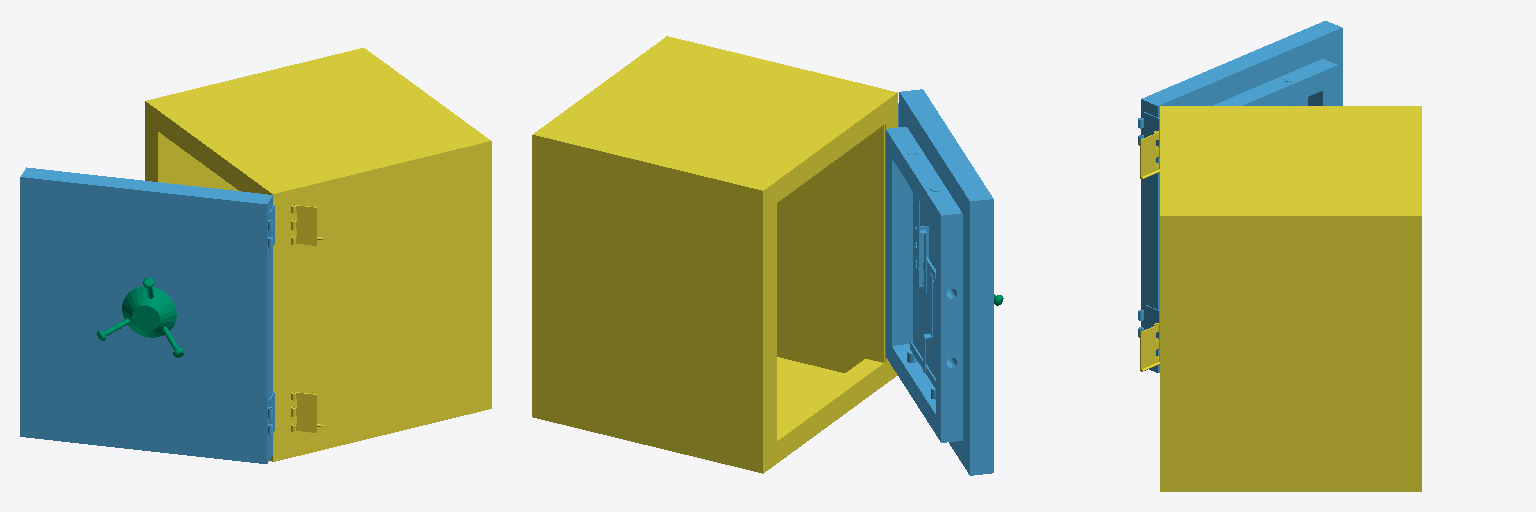
URDF robot description (partnet_53211332afe32708cccfa6e0b59fe5d2):
<?xml version="1.0" ?>
<robot name="partnet_53211332afe32708cccfa6e0b59fe5d2">
	<link name="base"/>
	<link name="link_0">
		<visual name="door-1">
			<origin xyz="-0.38419899999999974 -0.05941698257403383 -0.2703230189425102"/>
			<geometry>
				<mesh filename="textured_objs/original-16.obj"/>
			</geometry>
		</visual>
		<visual name="door-1">
			<origin xyz="-0.38419899999999974 -0.05941698257403383 -0.2703230189425102"/>
			<geometry>
				<mesh filename="textured_objs/original-58.obj"/>
			</geometry>
		</visual>
		<visual name="door-1">
			<origin xyz="-0.38419899999999974 -0.05941698257403383 -0.2703230189425102"/>
			<geometry>
				<mesh filename="textured_objs/original-57.obj"/>
			</geometry>
		</visual>
		<visual name="door-1">
			<origin xyz="-0.38419899999999974 -0.05941698257403383 -0.2703230189425102"/>
			<geometry>
				<mesh filename="textured_objs/original-56.obj"/>
			</geometry>
		</visual>
		<visual name="door-1">
			<origin xyz="-0.38419899999999974 -0.05941698257403383 -0.2703230189425102"/>
			<geometry>
				<mesh filename="textured_objs/original-49.obj"/>
			</geometry>
		</visual>
		<visual name="door-1">
			<origin xyz="-0.38419899999999974 -0.05941698257403383 -0.2703230189425102"/>
			<geometry>
				<mesh filename="textured_objs/original-48.obj"/>
			</geometry>
		</visual>
		<visual name="door-1">
			<origin xyz="-0.38419899999999974 -0.05941698257403383 -0.2703230189425102"/>
			<geometry>
				<mesh filename="textured_objs/original-47.obj"/>
			</geometry>
		</visual>
		<visual name="door-1">
			<origin xyz="-0.38419899999999974 -0.05941698257403383 -0.2703230189425102"/>
			<geometry>
				<mesh filename="textured_objs/original-15.obj"/>
			</geometry>
		</visual>
		<visual name="door-1">
			<origin xyz="-0.38419899999999974 -0.05941698257403383 -0.2703230189425102"/>
			<geometry>
				<mesh filename="textured_objs/original-17.obj"/>
			</geometry>
		</visual>
		<visual name="door-1">
			<origin xyz="-0.38419899999999974 -0.05941698257403383 -0.2703230189425102"/>
			<geometry>
				<mesh filename="textured_objs/original-19.obj"/>
			</geometry>
		</visual>
		<visual name="door-1">
			<origin xyz="-0.38419899999999974 -0.05941698257403383 -0.2703230189425102"/>
			<geometry>
				<mesh filename="textured_objs/original-18.obj"/>
			</geometry>
		</visual>
		<visual name="door-1">
			<origin xyz="-0.38419899999999974 -0.05941698257403383 -0.2703230189425102"/>
			<geometry>
				<mesh filename="textured_objs/original-24.obj"/>
			</geometry>
		</visual>
		<visual name="door-1">
			<origin xyz="-0.38419899999999974 -0.05941698257403383 -0.2703230189425102"/>
			<geometry>
				<mesh filename="textured_objs/original-22.obj"/>
			</geometry>
		</visual>
		<visual name="door-1">
			<origin xyz="-0.38419899999999974 -0.05941698257403383 -0.2703230189425102"/>
			<geometry>
				<mesh filename="textured_objs/original-23.obj"/>
			</geometry>
		</visual>
		<visual name="door-1">
			<origin xyz="-0.38419899999999974 -0.05941698257403383 -0.2703230189425102"/>
			<geometry>
				<mesh filename="textured_objs/original-28.obj"/>
			</geometry>
		</visual>
		<visual name="door-1">
			<origin xyz="-0.38419899999999974 -0.05941698257403383 -0.2703230189425102"/>
			<geometry>
				<mesh filename="textured_objs/original-27.obj"/>
			</geometry>
		</visual>
		<visual name="door-1">
			<origin xyz="-0.38419899999999974 -0.05941698257403383 -0.2703230189425102"/>
			<geometry>
				<mesh filename="textured_objs/original-25.obj"/>
			</geometry>
		</visual>
		<visual name="door-1">
			<origin xyz="-0.38419899999999974 -0.05941698257403383 -0.2703230189425102"/>
			<geometry>
				<mesh filename="textured_objs/original-21.obj"/>
			</geometry>
		</visual>
		<visual name="door-1">
			<origin xyz="-0.38419899999999974 -0.05941698257403383 -0.2703230189425102"/>
			<geometry>
				<mesh filename="textured_objs/original-20.obj"/>
			</geometry>
		</visual>
		<collision>
			<origin xyz="-0.38419899999999974 -0.05941698257403383 -0.2703230189425102"/>
			<geometry>
				<mesh filename="textured_objs/original-16.obj"/>
			</geometry>
		</collision>
		<collision>
			<origin xyz="-0.38419899999999974 -0.05941698257403383 -0.2703230189425102"/>
			<geometry>
				<mesh filename="textured_objs/original-58.obj"/>
			</geometry>
		</collision>
		<collision>
			<origin xyz="-0.38419899999999974 -0.05941698257403383 -0.2703230189425102"/>
			<geometry>
				<mesh filename="textured_objs/original-57.obj"/>
			</geometry>
		</collision>
		<collision>
			<origin xyz="-0.38419899999999974 -0.05941698257403383 -0.2703230189425102"/>
			<geometry>
				<mesh filename="textured_objs/original-56.obj"/>
			</geometry>
		</collision>
		<collision>
			<origin xyz="-0.38419899999999974 -0.05941698257403383 -0.2703230189425102"/>
			<geometry>
				<mesh filename="textured_objs/original-49.obj"/>
			</geometry>
		</collision>
		<collision>
			<origin xyz="-0.38419899999999974 -0.05941698257403383 -0.2703230189425102"/>
			<geometry>
				<mesh filename="textured_objs/original-48.obj"/>
			</geometry>
		</collision>
		<collision>
			<origin xyz="-0.38419899999999974 -0.05941698257403383 -0.2703230189425102"/>
			<geometry>
				<mesh filename="textured_objs/original-47.obj"/>
			</geometry>
		</collision>
		<collision>
			<origin xyz="-0.38419899999999974 -0.05941698257403383 -0.2703230189425102"/>
			<geometry>
				<mesh filename="textured_objs/original-15.obj"/>
			</geometry>
		</collision>
		<collision>
			<origin xyz="-0.38419899999999974 -0.05941698257403383 -0.2703230189425102"/>
			<geometry>
				<mesh filename="textured_objs/original-17.obj"/>
			</geometry>
		</collision>
		<collision>
			<origin xyz="-0.38419899999999974 -0.05941698257403383 -0.2703230189425102"/>
			<geometry>
				<mesh filename="textured_objs/original-19.obj"/>
			</geometry>
		</collision>
		<collision>
			<origin xyz="-0.38419899999999974 -0.05941698257403383 -0.2703230189425102"/>
			<geometry>
				<mesh filename="textured_objs/original-18.obj"/>
			</geometry>
		</collision>
		<collision>
			<origin xyz="-0.38419899999999974 -0.05941698257403383 -0.2703230189425102"/>
			<geometry>
				<mesh filename="textured_objs/original-24.obj"/>
			</geometry>
		</collision>
		<collision>
			<origin xyz="-0.38419899999999974 -0.05941698257403383 -0.2703230189425102"/>
			<geometry>
				<mesh filename="textured_objs/original-22.obj"/>
			</geometry>
		</collision>
		<collision>
			<origin xyz="-0.38419899999999974 -0.05941698257403383 -0.2703230189425102"/>
			<geometry>
				<mesh filename="textured_objs/original-23.obj"/>
			</geometry>
		</collision>
		<collision>
			<origin xyz="-0.38419899999999974 -0.05941698257403383 -0.2703230189425102"/>
			<geometry>
				<mesh filename="textured_objs/original-28.obj"/>
			</geometry>
		</collision>
		<collision>
			<origin xyz="-0.38419899999999974 -0.05941698257403383 -0.2703230189425102"/>
			<geometry>
				<mesh filename="textured_objs/original-27.obj"/>
			</geometry>
		</collision>
		<collision>
			<origin xyz="-0.38419899999999974 -0.05941698257403383 -0.2703230189425102"/>
			<geometry>
				<mesh filename="textured_objs/original-25.obj"/>
			</geometry>
		</collision>
		<collision>
			<origin xyz="-0.38419899999999974 -0.05941698257403383 -0.2703230189425102"/>
			<geometry>
				<mesh filename="textured_objs/original-21.obj"/>
			</geometry>
		</collision>
		<collision>
			<origin xyz="-0.38419899999999974 -0.05941698257403383 -0.2703230189425102"/>
			<geometry>
				<mesh filename="textured_objs/original-20.obj"/>
			</geometry>
		</collision>
	</link>
	<joint name="joint_0" type="revolute">
		<origin xyz="0.38419899999999974 0.05941698257403383 0.2703230189425102"/>
		<axis xyz="0 0.709565716841701 0"/>
		<child link="link_0"/>
		<parent link="link_2"/>
		<limit lower="-0.7941248096574199" upper="2.2689280275926285"/>
	</joint>
	<link name="link_1">
		<visual name="switch-4">
			<origin xyz="-0.1959598682307117 -0.050740505937412944 -0.6601749109882953"/>
			<geometry>
				<mesh filename="textured_objs/original-30.obj"/>
			</geometry>
		</visual>
		<visual name="switch-4">
			<origin xyz="-0.1959598682307117 -0.050740505937412944 -0.6601749109882953"/>
			<geometry>
				<mesh filename="textured_objs/original-32.obj"/>
			</geometry>
		</visual>
		<collision>
			<origin xyz="-0.1959598682307117 -0.050740505937412944 -0.6601749109882953"/>
			<geometry>
				<mesh filename="textured_objs/original-30.obj"/>
			</geometry>
		</collision>
		<collision>
			<origin xyz="-0.1959598682307117 -0.050740505937412944 -0.6601749109882953"/>
			<geometry>
				<mesh filename="textured_objs/original-32.obj"/>
			</geometry>
		</collision>
	</link>
	<joint name="joint_1" type="continuous">
		<origin xyz="-0.18823913176928803 -0.008676476636620883 0.3898518920457851"/>
		<axis xyz="-0.7241734255745836 8.294055942316948e-07 -0.6896179012256606"/>
		<child link="link_1"/>
		<parent link="link_0"/>
	</joint>
	<link name="link_2">
		<visual name="base_body-5">
			<origin xyz="0 0 0"/>
			<geometry>
				<mesh filename="textured_objs/original-43.obj"/>
			</geometry>
		</visual>
		<visual name="base_body-5">
			<origin xyz="0 0 0"/>
			<geometry>
				<mesh filename="textured_objs/original-52.obj"/>
			</geometry>
		</visual>
		<visual name="base_body-5">
			<origin xyz="0 0 0"/>
			<geometry>
				<mesh filename="textured_objs/original-4.obj"/>
			</geometry>
		</visual>
		<visual name="base_body-5">
			<origin xyz="0 0 0"/>
			<geometry>
				<mesh filename="textured_objs/original-3.obj"/>
			</geometry>
		</visual>
		<visual name="base_body-5">
			<origin xyz="0 0 0"/>
			<geometry>
				<mesh filename="textured_objs/original-33.obj"/>
			</geometry>
		</visual>
		<visual name="base_body-5">
			<origin xyz="0 0 0"/>
			<geometry>
				<mesh filename="textured_objs/original-2.obj"/>
			</geometry>
		</visual>
		<visual name="base_body-5">
			<origin xyz="0 0 0"/>
			<geometry>
				<mesh filename="textured_objs/original-44.obj"/>
			</geometry>
		</visual>
		<visual name="base_body-5">
			<origin xyz="0 0 0"/>
			<geometry>
				<mesh filename="textured_objs/original-8.obj"/>
			</geometry>
		</visual>
		<visual name="base_body-5">
			<origin xyz="0 0 0"/>
			<geometry>
				<mesh filename="textured_objs/original-13.obj"/>
			</geometry>
		</visual>
		<visual name="base_body-5">
			<origin xyz="0 0 0"/>
			<geometry>
				<mesh filename="textured_objs/original-9.obj"/>
			</geometry>
		</visual>
		<visual name="base_body-5">
			<origin xyz="0 0 0"/>
			<geometry>
				<mesh filename="textured_objs/original-45.obj"/>
			</geometry>
		</visual>
		<visual name="base_body-5">
			<origin xyz="0 0 0"/>
			<geometry>
				<mesh filename="textured_objs/original-59.obj"/>
			</geometry>
		</visual>
		<visual name="base_body-5">
			<origin xyz="0 0 0"/>
			<geometry>
				<mesh filename="textured_objs/original-5.obj"/>
			</geometry>
		</visual>
		<visual name="base_body-5">
			<origin xyz="0 0 0"/>
			<geometry>
				<mesh filename="textured_objs/original-54.obj"/>
			</geometry>
		</visual>
		<visual name="base_body-5">
			<origin xyz="0 0 0"/>
			<geometry>
				<mesh filename="textured_objs/original-51.obj"/>
			</geometry>
		</visual>
		<visual name="base_body-5">
			<origin xyz="0 0 0"/>
			<geometry>
				<mesh filename="textured_objs/original-55.obj"/>
			</geometry>
		</visual>
		<visual name="base_body-5">
			<origin xyz="0 0 0"/>
			<geometry>
				<mesh filename="textured_objs/original-50.obj"/>
			</geometry>
		</visual>
		<visual name="base_body-5">
			<origin xyz="0 0 0"/>
			<geometry>
				<mesh filename="textured_objs/original-6.obj"/>
			</geometry>
		</visual>
		<visual name="base_body-5">
			<origin xyz="0 0 0"/>
			<geometry>
				<mesh filename="textured_objs/original-31.obj"/>
			</geometry>
		</visual>
		<visual name="base_body-5">
			<origin xyz="0 0 0"/>
			<geometry>
				<mesh filename="textured_objs/original-11.obj"/>
			</geometry>
		</visual>
		<visual name="base_body-5">
			<origin xyz="0 0 0"/>
			<geometry>
				<mesh filename="textured_objs/original-38.obj"/>
			</geometry>
		</visual>
		<visual name="base_body-5">
			<origin xyz="0 0 0"/>
			<geometry>
				<mesh filename="textured_objs/original-12.obj"/>
			</geometry>
		</visual>
		<visual name="base_body-5">
			<origin xyz="0 0 0"/>
			<geometry>
				<mesh filename="textured_objs/original-53.obj"/>
			</geometry>
		</visual>
		<visual name="base_body-5">
			<origin xyz="0 0 0"/>
			<geometry>
				<mesh filename="textured_objs/original-7.obj"/>
			</geometry>
		</visual>
		<visual name="base_body-5">
			<origin xyz="0 0 0"/>
			<geometry>
				<mesh filename="textured_objs/original-1.obj"/>
			</geometry>
		</visual>
		<visual name="base_body-5">
			<origin xyz="0 0 0"/>
			<geometry>
				<mesh filename="textured_objs/original-10.obj"/>
			</geometry>
		</visual>
		<visual name="base_body-5">
			<origin xyz="0 0 0"/>
			<geometry>
				<mesh filename="textured_objs/original-14.obj"/>
			</geometry>
		</visual>
		<visual name="base_body-5">
			<origin xyz="0 0 0"/>
			<geometry>
				<mesh filename="textured_objs/original-60.obj"/>
			</geometry>
		</visual>
		<visual name="base_body-5">
			<origin xyz="0 0 0"/>
			<geometry>
				<mesh filename="textured_objs/original-46.obj"/>
			</geometry>
		</visual>
		<collision>
			<origin xyz="0 0 0"/>
			<geometry>
				<mesh filename="textured_objs/original-43.obj"/>
			</geometry>
		</collision>
		<collision>
			<origin xyz="0 0 0"/>
			<geometry>
				<mesh filename="textured_objs/original-52.obj"/>
			</geometry>
		</collision>
		<collision>
			<origin xyz="0 0 0"/>
			<geometry>
				<mesh filename="textured_objs/original-4.obj"/>
			</geometry>
		</collision>
		<collision>
			<origin xyz="0 0 0"/>
			<geometry>
				<mesh filename="textured_objs/original-3.obj"/>
			</geometry>
		</collision>
		<collision>
			<origin xyz="0 0 0"/>
			<geometry>
				<mesh filename="textured_objs/original-33.obj"/>
			</geometry>
		</collision>
		<collision>
			<origin xyz="0 0 0"/>
			<geometry>
				<mesh filename="textured_objs/original-2.obj"/>
			</geometry>
		</collision>
		<collision>
			<origin xyz="0 0 0"/>
			<geometry>
				<mesh filename="textured_objs/original-44.obj"/>
			</geometry>
		</collision>
		<collision>
			<origin xyz="0 0 0"/>
			<geometry>
				<mesh filename="textured_objs/original-8.obj"/>
			</geometry>
		</collision>
		<collision>
			<origin xyz="0 0 0"/>
			<geometry>
				<mesh filename="textured_objs/original-13.obj"/>
			</geometry>
		</collision>
		<collision>
			<origin xyz="0 0 0"/>
			<geometry>
				<mesh filename="textured_objs/original-9.obj"/>
			</geometry>
		</collision>
		<collision>
			<origin xyz="0 0 0"/>
			<geometry>
				<mesh filename="textured_objs/original-45.obj"/>
			</geometry>
		</collision>
		<collision>
			<origin xyz="0 0 0"/>
			<geometry>
				<mesh filename="textured_objs/original-59.obj"/>
			</geometry>
		</collision>
		<collision>
			<origin xyz="0 0 0"/>
			<geometry>
				<mesh filename="textured_objs/original-5.obj"/>
			</geometry>
		</collision>
		<collision>
			<origin xyz="0 0 0"/>
			<geometry>
				<mesh filename="textured_objs/original-54.obj"/>
			</geometry>
		</collision>
		<collision>
			<origin xyz="0 0 0"/>
			<geometry>
				<mesh filename="textured_objs/original-51.obj"/>
			</geometry>
		</collision>
		<collision>
			<origin xyz="0 0 0"/>
			<geometry>
				<mesh filename="textured_objs/original-55.obj"/>
			</geometry>
		</collision>
		<collision>
			<origin xyz="0 0 0"/>
			<geometry>
				<mesh filename="textured_objs/original-50.obj"/>
			</geometry>
		</collision>
		<collision>
			<origin xyz="0 0 0"/>
			<geometry>
				<mesh filename="textured_objs/original-6.obj"/>
			</geometry>
		</collision>
		<collision>
			<origin xyz="0 0 0"/>
			<geometry>
				<mesh filename="textured_objs/original-31.obj"/>
			</geometry>
		</collision>
		<collision>
			<origin xyz="0 0 0"/>
			<geometry>
				<mesh filename="textured_objs/original-11.obj"/>
			</geometry>
		</collision>
		<collision>
			<origin xyz="0 0 0"/>
			<geometry>
				<mesh filename="textured_objs/original-38.obj"/>
			</geometry>
		</collision>
		<collision>
			<origin xyz="0 0 0"/>
			<geometry>
				<mesh filename="textured_objs/original-12.obj"/>
			</geometry>
		</collision>
		<collision>
			<origin xyz="0 0 0"/>
			<geometry>
				<mesh filename="textured_objs/original-53.obj"/>
			</geometry>
		</collision>
		<collision>
			<origin xyz="0 0 0"/>
			<geometry>
				<mesh filename="textured_objs/original-7.obj"/>
			</geometry>
		</collision>
		<collision>
			<origin xyz="0 0 0"/>
			<geometry>
				<mesh filename="textured_objs/original-1.obj"/>
			</geometry>
		</collision>
		<collision>
			<origin xyz="0 0 0"/>
			<geometry>
				<mesh filename="textured_objs/original-10.obj"/>
			</geometry>
		</collision>
		<collision>
			<origin xyz="0 0 0"/>
			<geometry>
				<mesh filename="textured_objs/original-14.obj"/>
			</geometry>
		</collision>
		<collision>
			<origin xyz="0 0 0"/>
			<geometry>
				<mesh filename="textured_objs/original-60.obj"/>
			</geometry>
		</collision>
		<collision>
			<origin xyz="0 0 0"/>
			<geometry>
				<mesh filename="textured_objs/original-46.obj"/>
			</geometry>
		</collision>
	</link>
	<joint name="joint_2" type="fixed">
		<origin rpy="1.570796326794897 0 -1.570796326794897" xyz="0 0 0"/>
		<child link="link_2"/>
		<parent link="base"/>
	</joint>
</robot>

--- Render facts (derived) ---
The picture shows the robot from 3 angles, left to right: view 1: azimuth 30°, elevation 25°; view 2: azimuth 150°, elevation 25°; view 3: azimuth 270°, elevation 25°; orthographic projection.
Robot: partnet_53211332afe32708cccfa6e0b59fe5d2 — 4 links, 3 joints (1 revolute, 1 continuous, 1 fixed); root link base; default pose: every joint at zero.
Links seen in each view (by area): view 1: link_2, link_0, link_1; view 2: link_2, link_0; view 3: link_2, link_0.
Boxes of the visible links, x1,y1,x2,y2 form: link_2: (145, 48, 491, 461); link_0: (20, 167, 274, 463); link_1: (97, 277, 183, 357); link_2: (532, 36, 897, 473); link_0: (886, 89, 993, 475); link_2: (1140, 106, 1421, 491); link_0: (1138, 21, 1342, 372).
Bounding box of the posed robot: 1.52 × 0.9333 × 1 m (x, y, z).
Meshes: 50 distinct files referenced, 50 mesh visuals loaded (50 OBJ).
